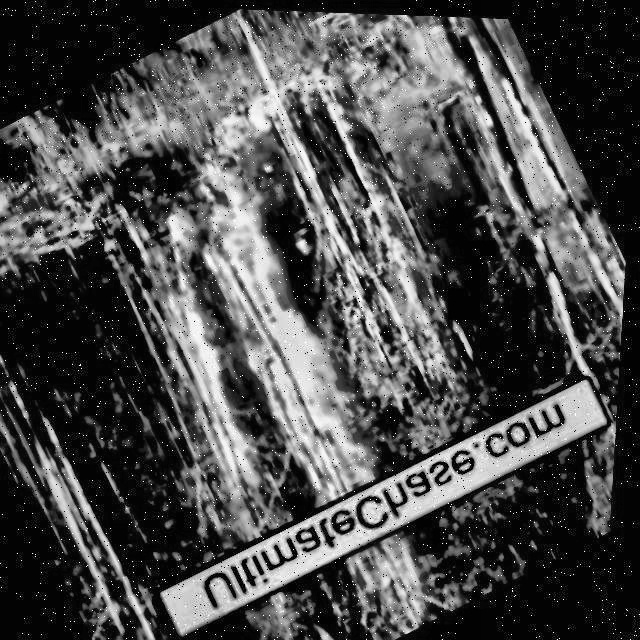Fire: (95, 161, 384, 498), (342, 525, 454, 640), (181, 71, 306, 171), (311, 432, 383, 502)
